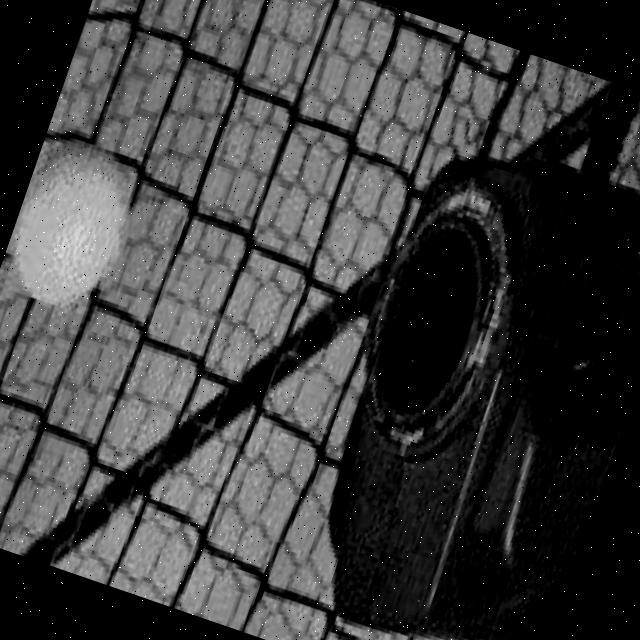ping-pong-ball: (0, 124, 151, 324)
